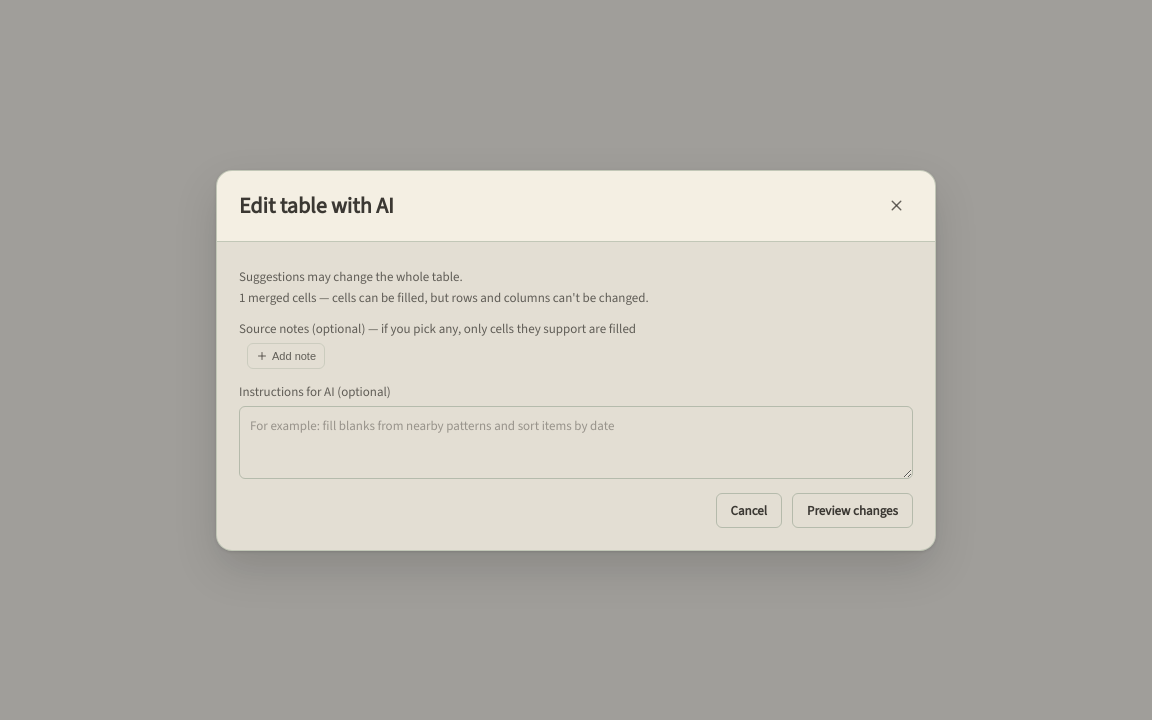
TableAiModal — merged form tables › rejects a plan that edits a cell covered by a merge (the model ignored the rule)
This screenshot has width=1152, height=720.
Step 1. Click the button "Preview changes" → (853, 510), box [792,492,913,528]
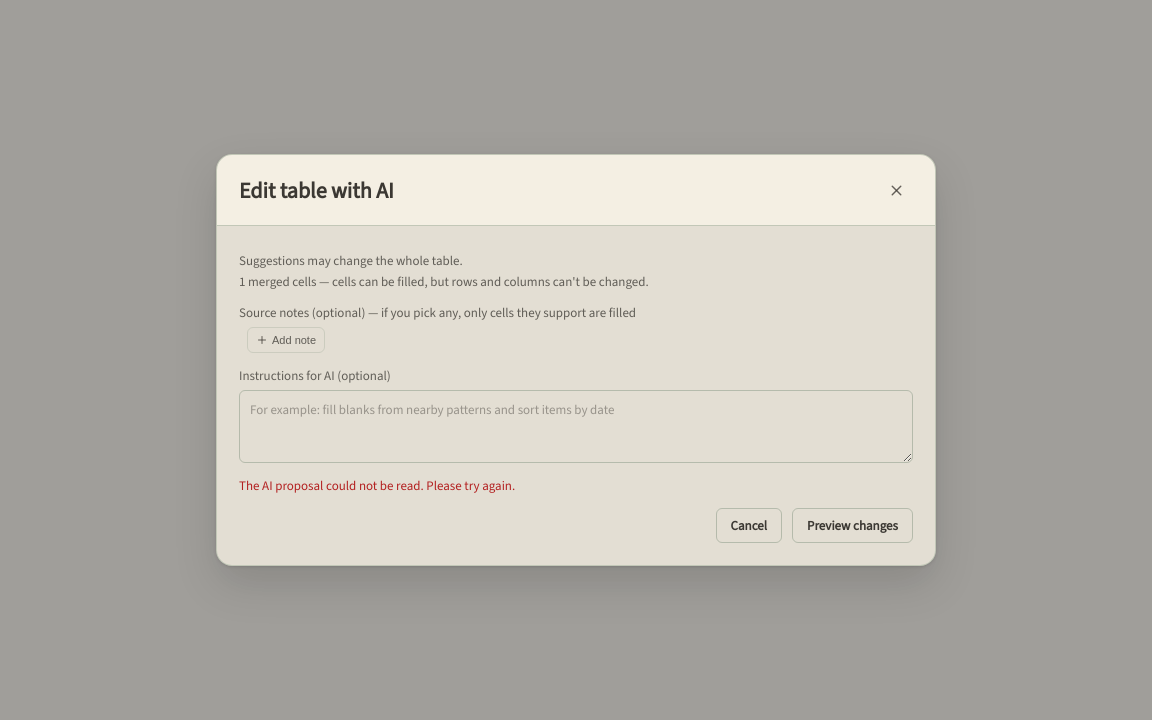
Expected: the message reads "The AI proposal could not be read. Please try again.", [239,477,515,494]
